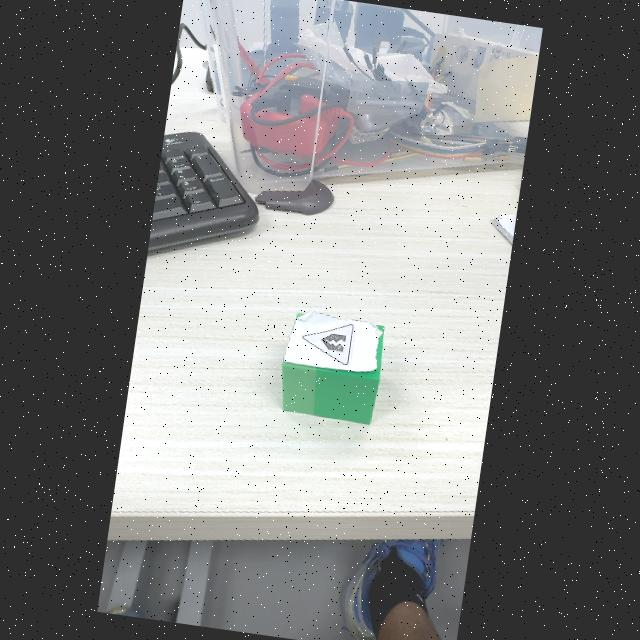Earthquake: (303, 325, 354, 365)
